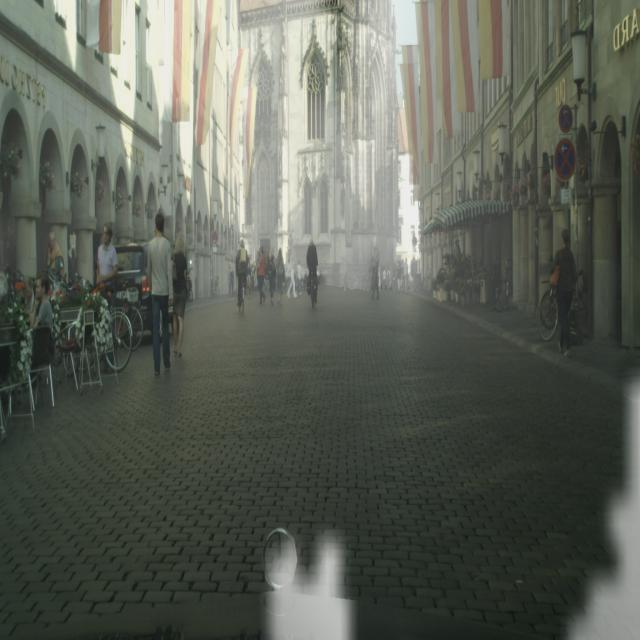car: (538, 276, 588, 344)
person: (146, 211, 173, 374), (551, 229, 577, 355), (172, 229, 188, 359), (97, 222, 118, 306), (235, 238, 248, 316), (46, 231, 64, 278), (306, 239, 318, 306), (369, 246, 380, 301), (256, 249, 266, 304), (276, 249, 285, 306), (268, 252, 277, 305)
